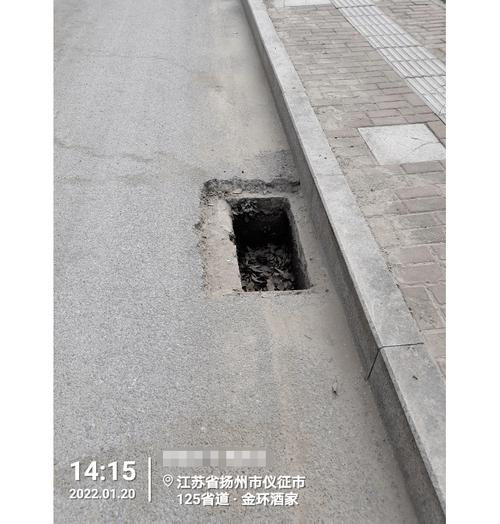lose: (174, 162, 355, 320)
